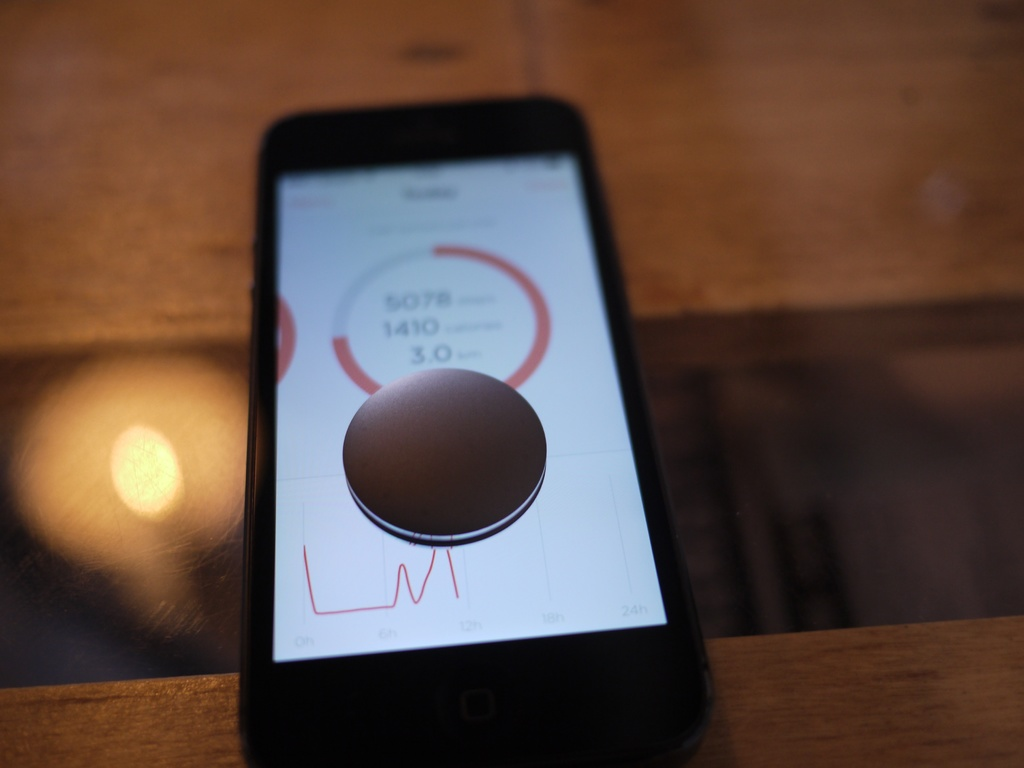Mobile-phone: (247, 92, 712, 767)
